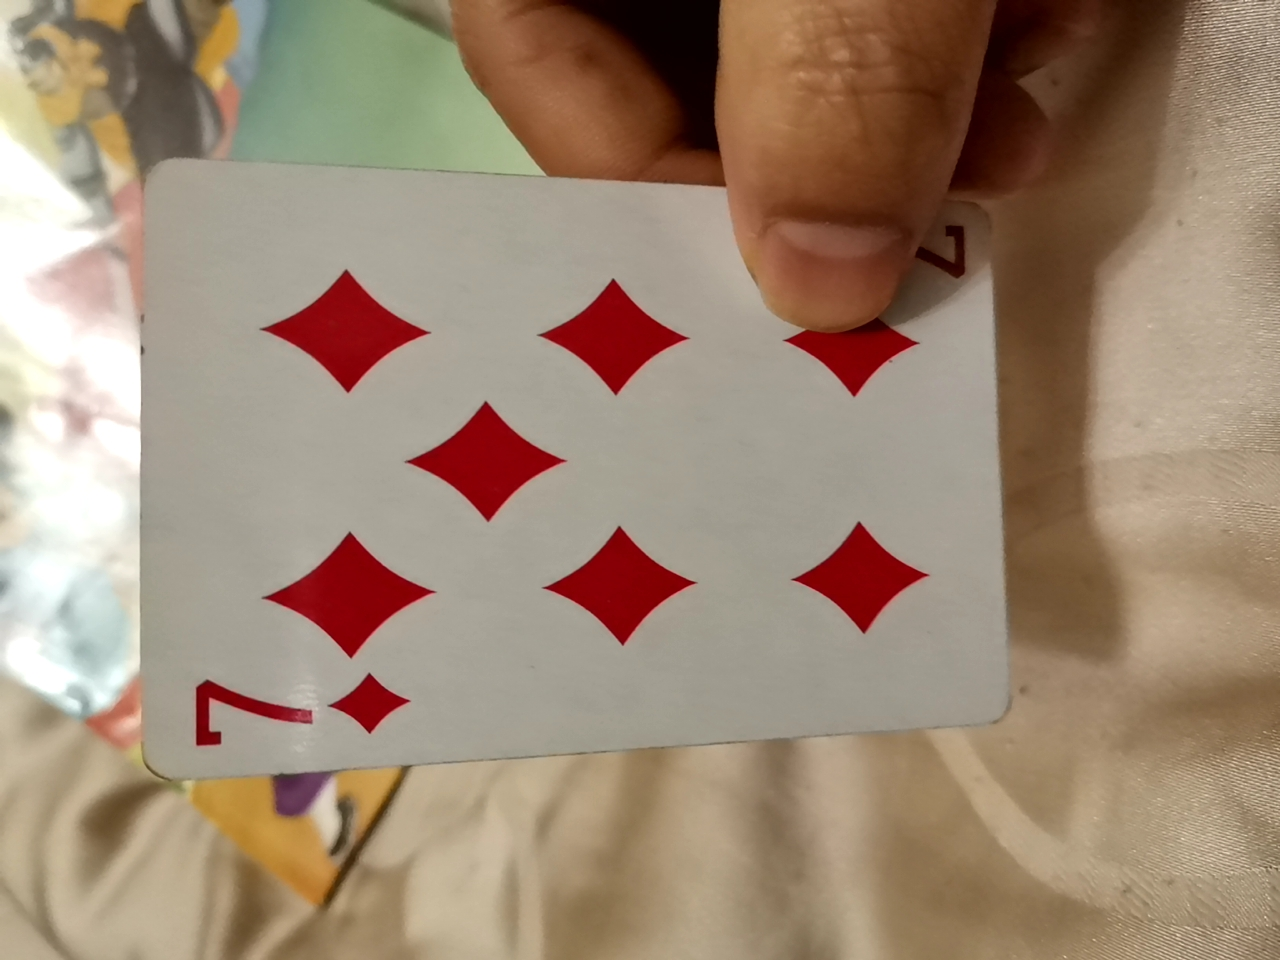fk 7: (84, 163, 1014, 782)
